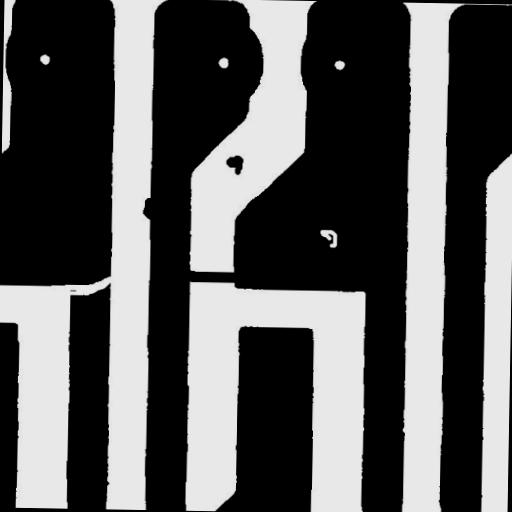copper: (218, 147, 251, 182)
open: (55, 268, 121, 304)
pin-hole: (312, 222, 345, 256)
short: (174, 261, 246, 290)
spur: (135, 190, 164, 227)
